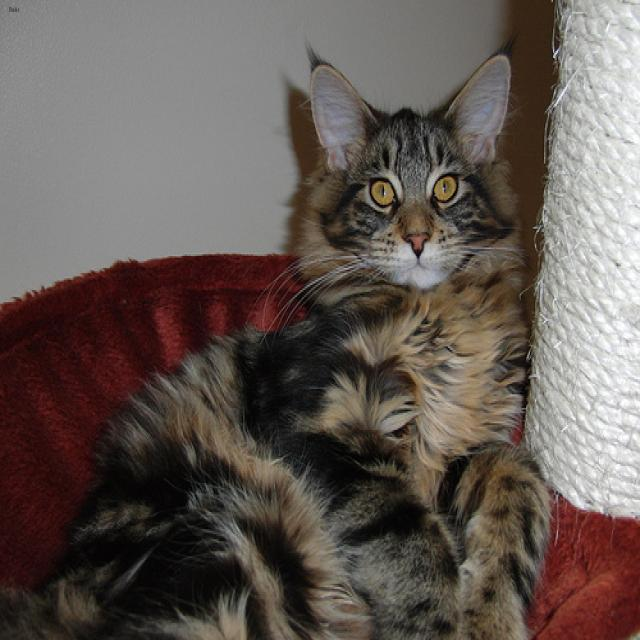Maine_Coon: (309, 51, 511, 285)
